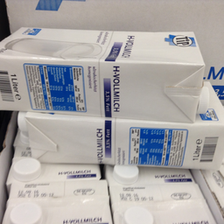milk: (2, 23, 205, 120), (18, 113, 224, 176)
